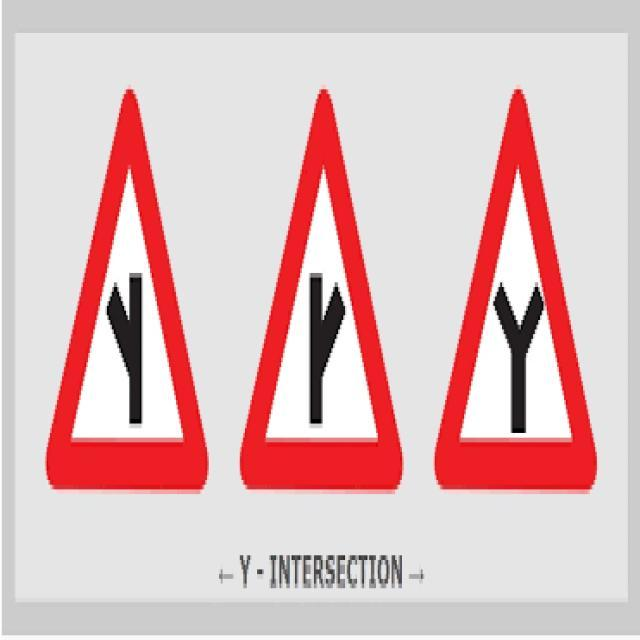y intersection: (239, 79, 406, 499)
